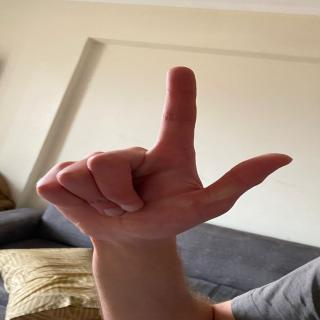LAAM: (32, 61, 299, 240)
